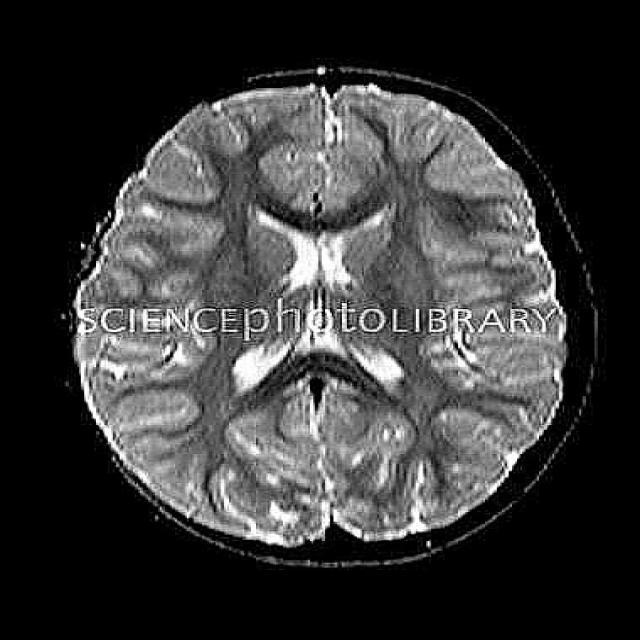notumor: (76, 85, 564, 547)
